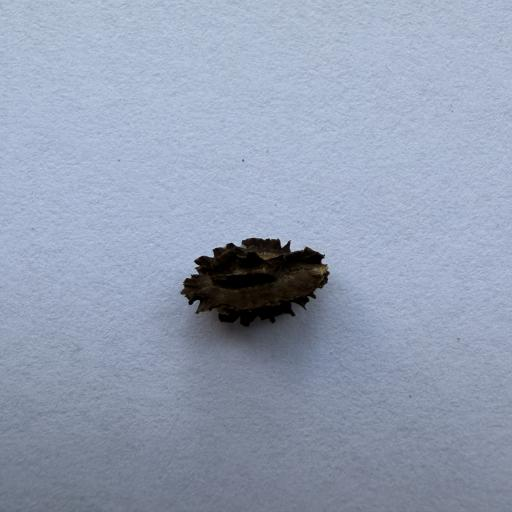papaya_seed: (179, 218, 348, 336)
